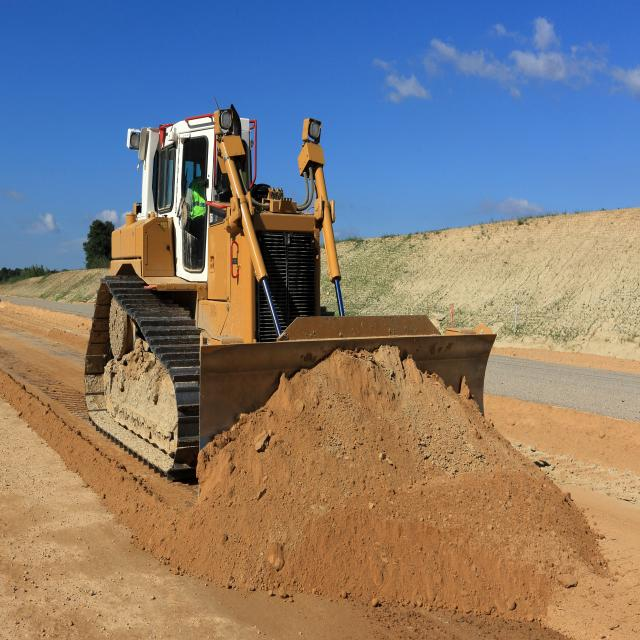buldozerpayloadergrader: (52, 70, 526, 526)
